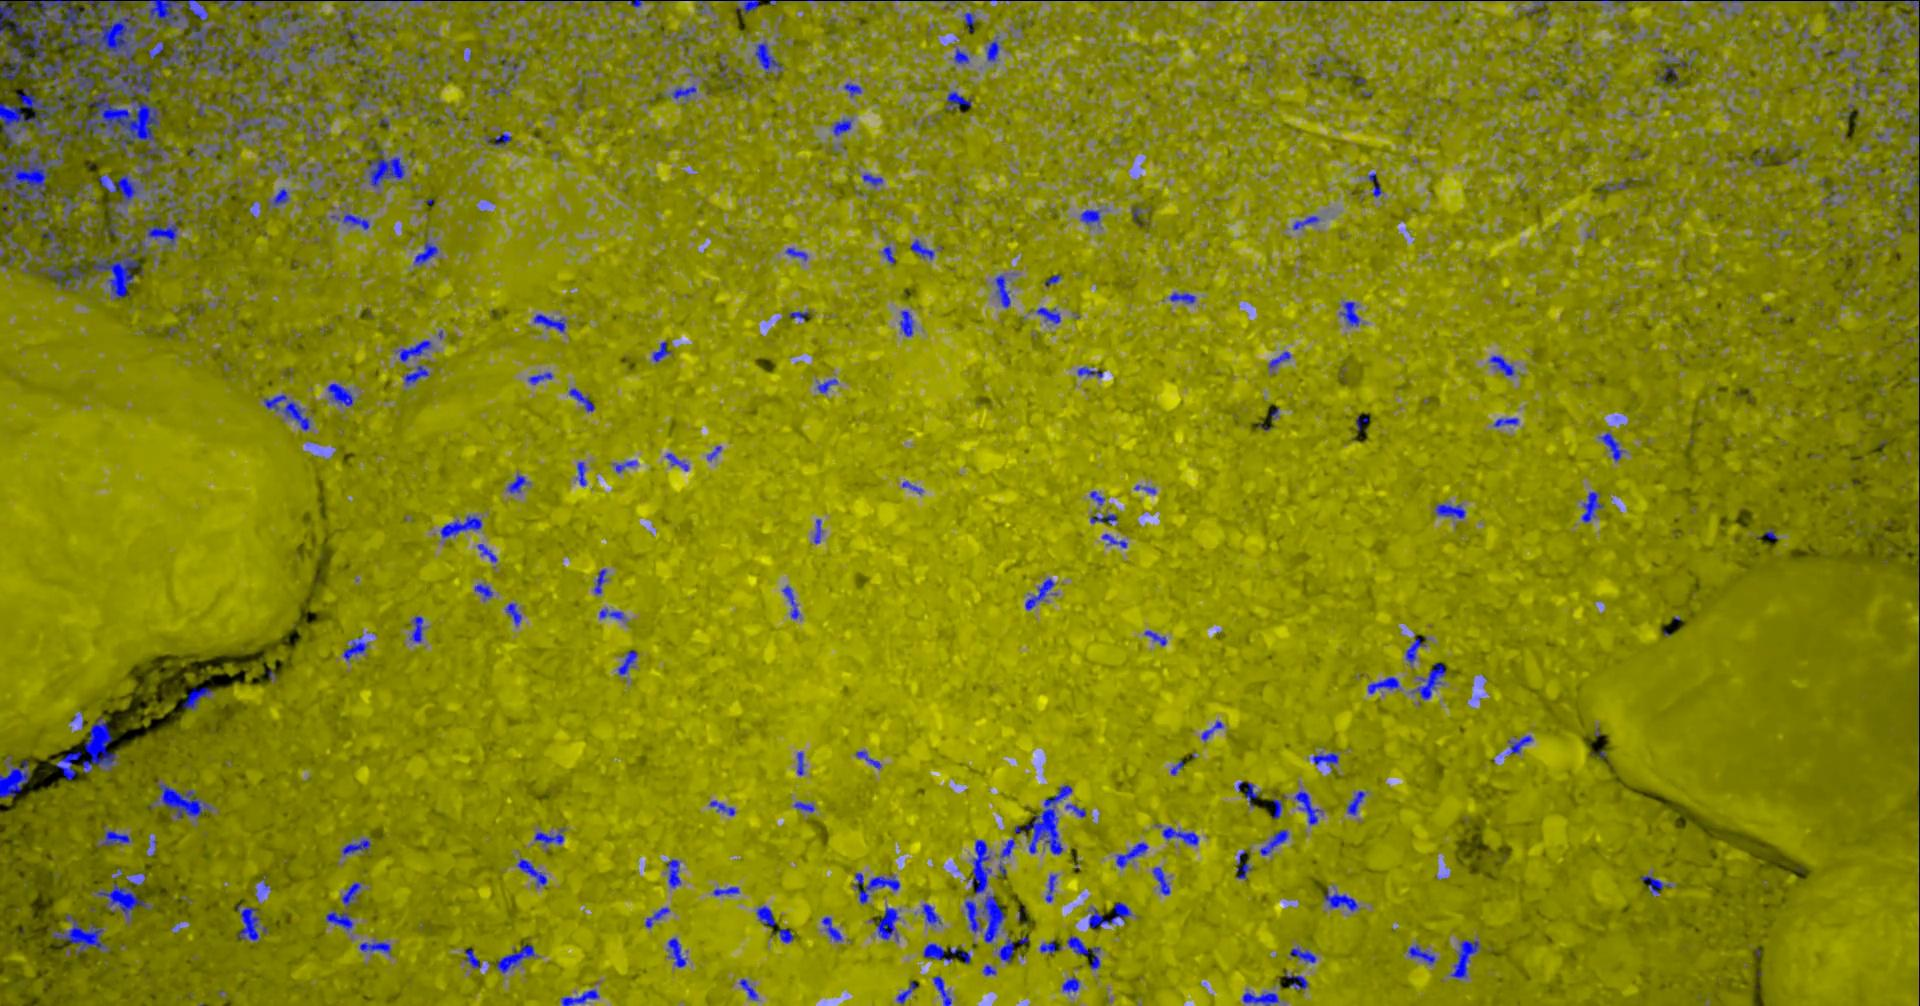ant: (248, 8, 311, 64), (41, 227, 88, 288), (97, 876, 152, 920), (55, 913, 109, 954), (157, 779, 213, 818), (83, 716, 119, 772), (265, 394, 312, 431), (370, 149, 408, 187), (855, 873, 902, 903), (100, 173, 143, 205), (1657, 50, 1694, 86), (1412, 662, 1448, 699), (1, 754, 30, 798), (342, 19, 375, 56), (1090, 902, 1134, 929), (1068, 935, 1102, 969), (1451, 939, 1481, 978), (237, 904, 269, 940), (232, 105, 270, 135), (498, 944, 536, 973), (872, 906, 902, 941), (924, 942, 971, 964), (441, 514, 483, 539), (1026, 578, 1058, 610), (1295, 790, 1324, 824), (1907, 108, 1920, 185), (145, 222, 180, 249), (99, 201, 124, 238), (1876, 0, 1920, 20), (518, 857, 549, 887), (756, 42, 783, 74), (1117, 841, 1149, 868), (1823, 0, 1860, 22), (397, 340, 433, 362), (1324, 889, 1360, 911), (56, 751, 83, 779), (1601, 432, 1627, 461), (1261, 829, 1290, 855), (183, 686, 213, 709), (1164, 826, 1200, 845), (415, 238, 439, 265), (1583, 492, 1605, 522), (1407, 634, 1429, 663), (535, 312, 568, 332), (783, 586, 803, 619), (570, 387, 596, 412), (344, 636, 370, 661), (329, 384, 356, 406), (563, 988, 599, 1005), (331, 213, 371, 229), (669, 937, 690, 967), (1642, 875, 1672, 894), (1490, 354, 1516, 376), (328, 909, 356, 930), (1410, 944, 1437, 964), (1369, 676, 1401, 694), (536, 827, 568, 845), (1001, 838, 1016, 875), (405, 365, 430, 386), (996, 274, 1012, 307), (947, 90, 974, 111), (966, 901, 983, 932), (646, 907, 670, 929), (898, 981, 919, 1005), (935, 976, 952, 1005), (1341, 301, 1361, 326), (1509, 734, 1534, 754), (823, 916, 843, 941), (1237, 848, 1253, 879), (1154, 866, 1172, 894), (1244, 991, 1280, 1005), (910, 239, 935, 259), (618, 650, 639, 674), (343, 882, 363, 906), (757, 904, 777, 929), (857, 749, 883, 768), (1349, 790, 1368, 815), (1437, 502, 1467, 518), (343, 838, 372, 855), (1601, 177, 1636, 191), (1203, 720, 1225, 741), (923, 903, 943, 926), (1286, 970, 1310, 989), (102, 829, 131, 845), (361, 939, 392, 953), (508, 473, 531, 492), (1368, 171, 1385, 196), (737, 0, 762, 17), (999, 937, 1016, 963), (740, 978, 759, 1000), (505, 602, 523, 625), (1291, 946, 1318, 962), (670, 85, 698, 99), (668, 859, 682, 887), (270, 188, 290, 208), (1314, 752, 1340, 767), (1246, 781, 1261, 807), (711, 800, 737, 815), (654, 340, 672, 362), (1270, 351, 1291, 368), (667, 453, 690, 470), (1294, 215, 1321, 229), (902, 310, 916, 337), (596, 568, 610, 594), (411, 615, 425, 641), (1526, 0, 1550, 15), (1037, 307, 1062, 323), (479, 542, 498, 561), (987, 36, 1001, 61), (1103, 533, 1129, 547), (1145, 630, 1168, 645), (834, 118, 853, 136), (486, 133, 513, 146), (466, 948, 483, 968), (1081, 210, 1102, 225), (63, 189, 76, 215), (1170, 292, 1197, 304), (1900, 202, 1920, 217), (615, 460, 639, 473), (1091, 513, 1117, 525), (787, 246, 809, 260), (773, 929, 795, 942), (1041, 940, 1063, 954), (476, 583, 494, 600), (1078, 366, 1103, 377), (577, 461, 588, 486), (863, 171, 884, 185), (819, 379, 839, 392), (1067, 803, 1087, 817), (1048, 874, 1058, 902), (530, 372, 554, 384), (955, 47, 971, 64), (1064, 976, 1081, 992), (1274, 793, 1284, 819), (844, 83, 863, 97), (883, 245, 897, 264), (631, 0, 665, 8), (599, 608, 625, 619), (363, 67, 377, 85), (714, 887, 742, 895), (1091, 490, 1106, 506), (1495, 417, 1520, 426), (795, 801, 817, 812), (965, 11, 977, 30), (815, 518, 824, 542), (797, 751, 806, 775), (1752, 151, 1765, 166), (790, 311, 811, 319), (984, 964, 998, 976)
